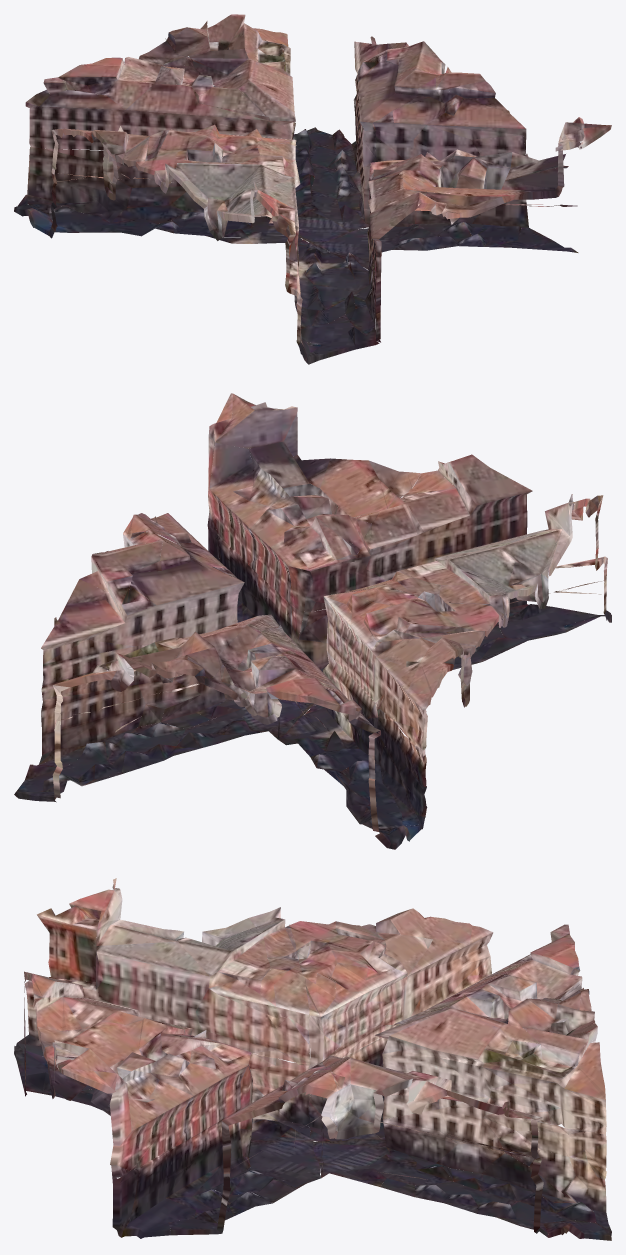
3 views of the same model, one above another, from view 1: azimuth 30°, elevation 25°; view 2: azimuth 150°, elevation 25°; view 3: azimuth 270°, elevation 25° (orthographic). The views are drawn at different scales.
Visible parts, largest first — view 1: Mesh_0; view 2: Mesh_0; view 3: Mesh_0.
Boxes of the visible parts, box(x1,y1,x2,y2) form: Mesh_0: box(14, 14, 611, 364); Mesh_0: box(14, 393, 611, 849); Mesh_0: box(14, 878, 611, 1240).
Size of the model in its own units: 66.55 by 31.53 by 82.51.
2 materials, 2 textured.
